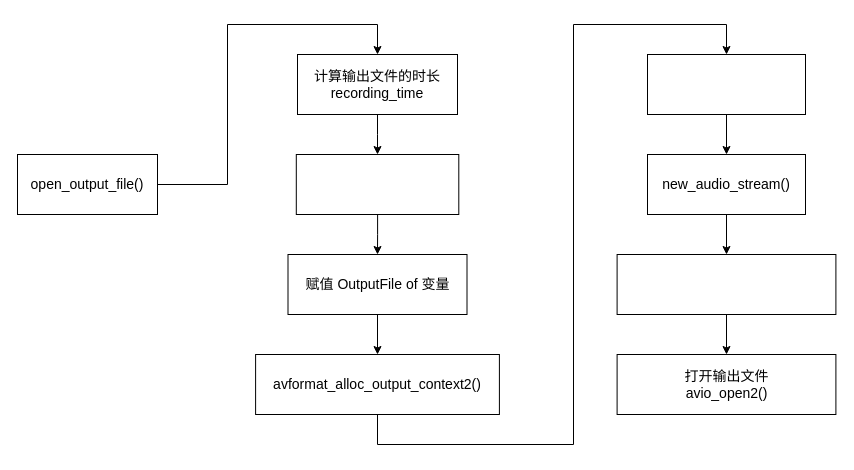
The diagram is 854 pixels wide and 470 high, and some of its shapes have lost their labels. The shapes that lost their labels are listed below. From the top down, each one's box as (x1, y1, x2, y2) in pixels, then its label:
(646, 54, 806, 114): new_video_stream()
(295, 154, 459, 214): 扩容 output_files 数组
(616, 254, 836, 314): 初始化简单滤镜 init_simple_filtergraph(ist, ost);
